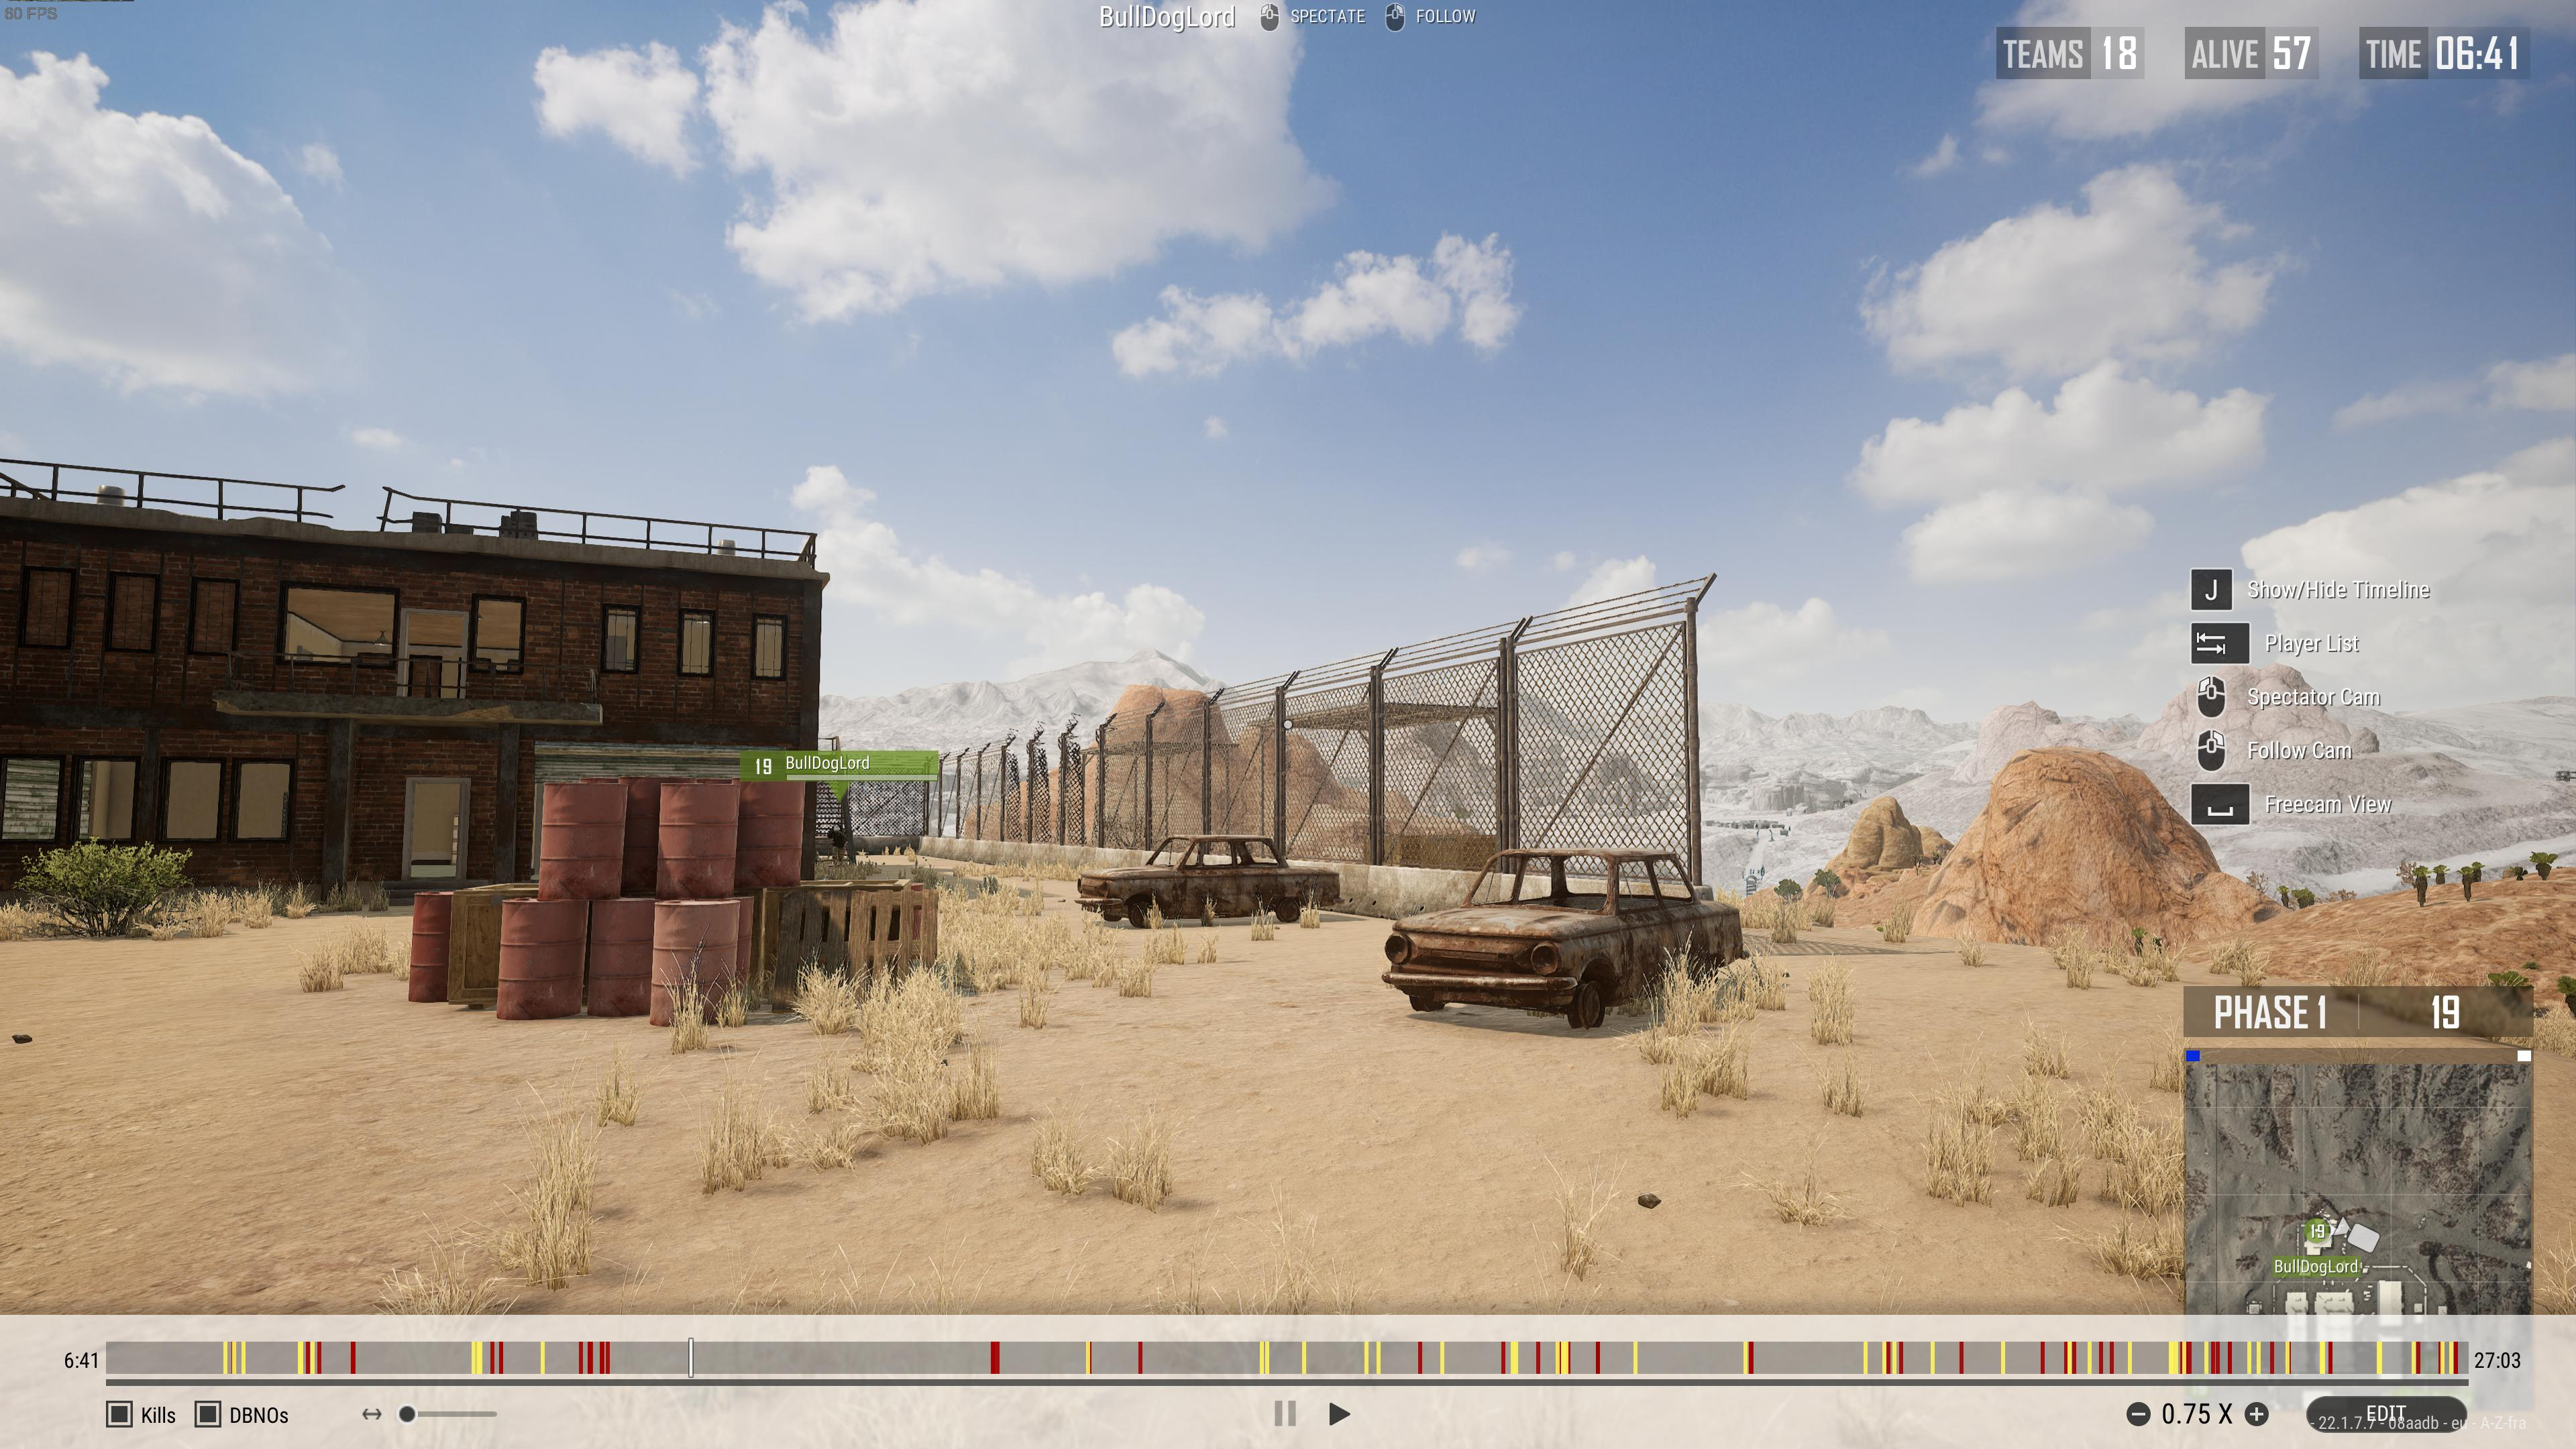enemy: (826, 824, 847, 867)
enemy_head: (833, 824, 840, 833)
